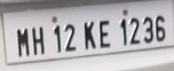character: (16, 28, 30, 57), (31, 27, 45, 55), (83, 21, 97, 49), (97, 20, 111, 48), (128, 17, 140, 45), (64, 24, 76, 51), (154, 15, 166, 42), (142, 16, 153, 43), (52, 24, 62, 53), (119, 18, 128, 45)
